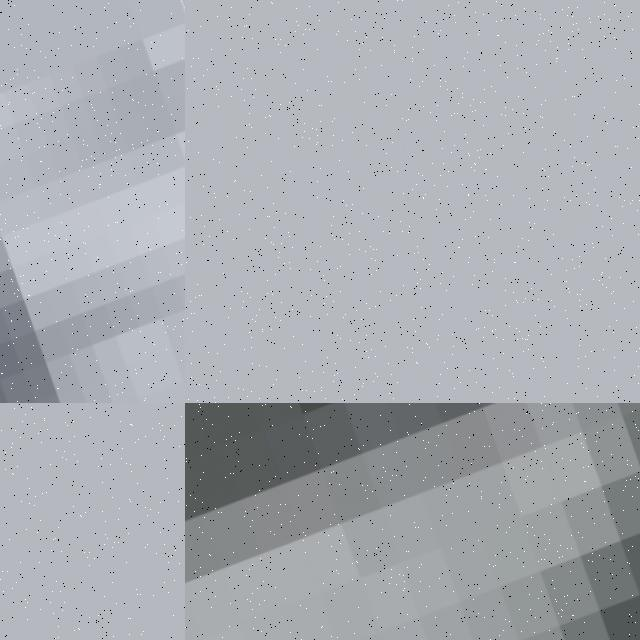drone: (185, 403, 640, 640), (0, 0, 185, 403)
